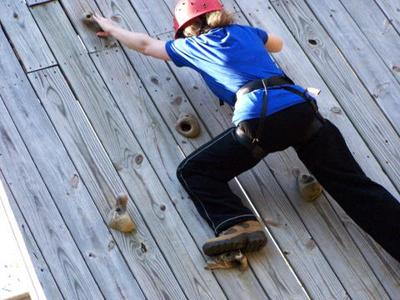person: (90, 1, 400, 264)
